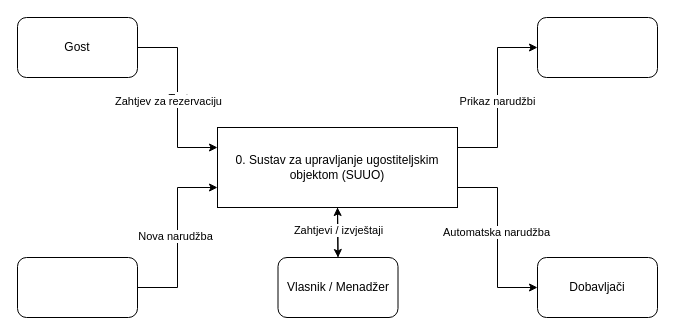
Image size: 675x335. Some labels were removed from this diagram. The centre of each missing label's shape, as x and y in pixels:
"Konobar" belongs at point (77, 287).
"Kuhinjsko osoblje" belongs at point (597, 47).
